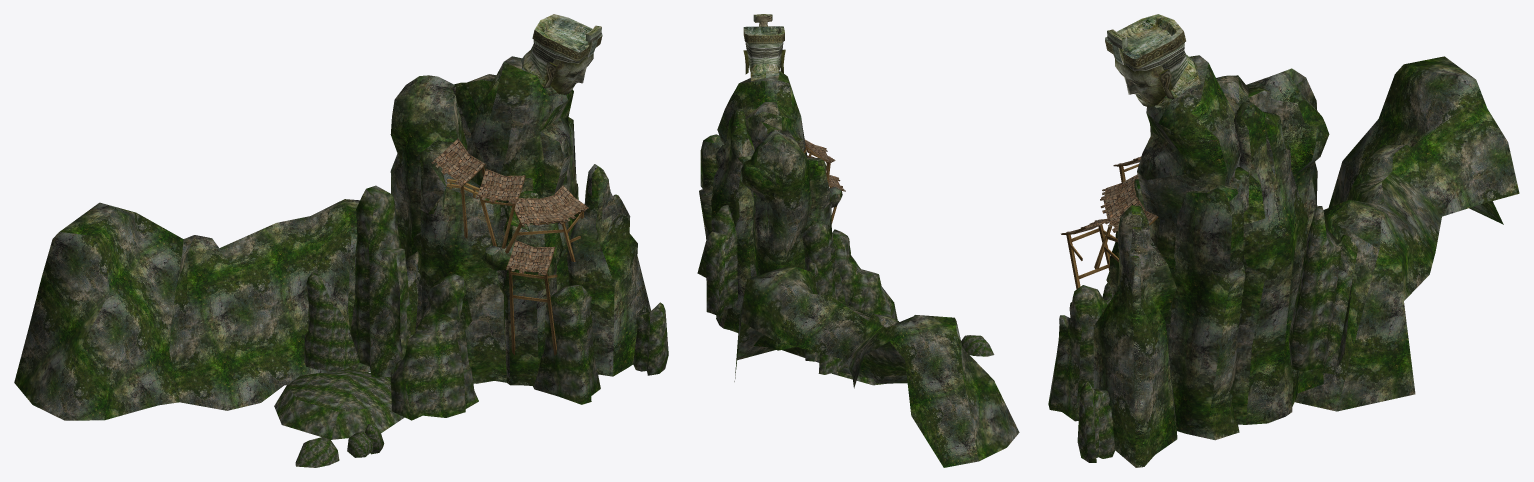
File: bigmap_fotoushan01.FBX
3 views of the same model, side by side, from view 1: azimuth 30°, elevation 25°; view 2: azimuth 150°, elevation 25°; view 3: azimuth 270°, elevation 25° (orthographic). The views are drawn at different scales.
Parts seen in each view (by area): view 1: shaolisshanj03, shaolisshanj01; view 2: shaolisshanj03, shaolisshanj01; view 3: shaolisshanj03, shaolisshanj01.
Part boxes in pixels (box(x1,y1,x2,y2)): shaolisshanj03: box(14, 56, 668, 467); shaolisshanj01: box(431, 14, 602, 355); shaolisshanj03: box(697, 71, 1019, 467); shaolisshanj01: box(743, 14, 845, 223); shaolisshanj03: box(1048, 55, 1519, 467); shaolisshanj01: box(1061, 14, 1200, 289).
Bounding box in the file's own units: 13.53 × 9.39 × 9.39.
